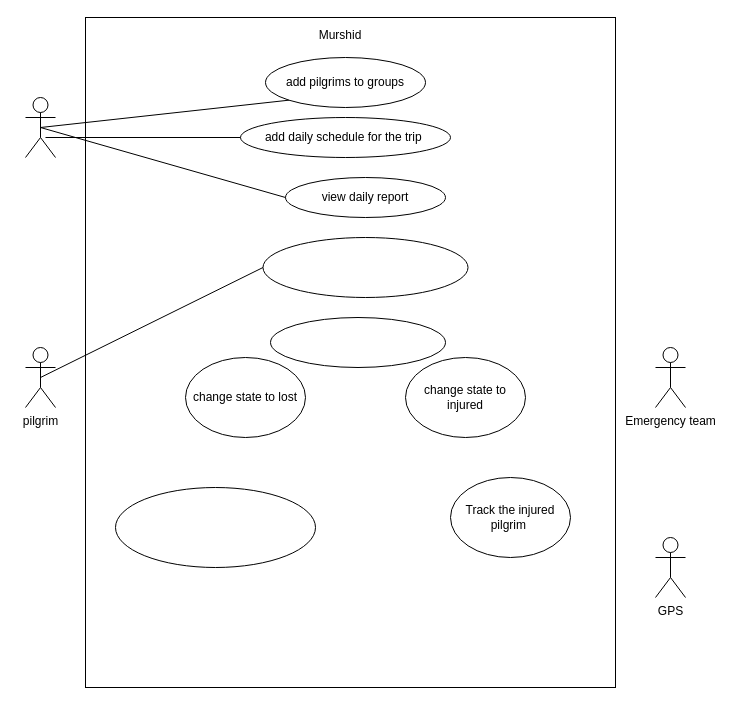
Some shapes in this 733 by 705 pixel diagram are drawn without their labels. Here are the shapes that lost their labels. From the top down, the centre of each, then its label:
the point at 40,127: manager
the point at 365,267: View the details of the pilgrim’s daily trip
the point at 358,342: Track group members
the point at 215,527: send notification lost pilgrim
